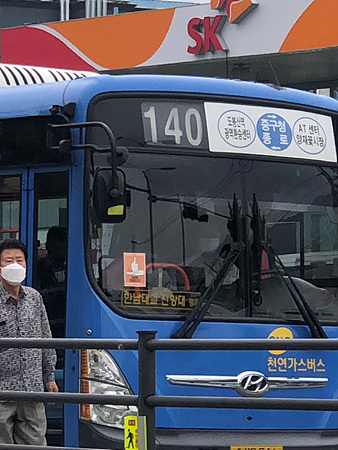bnum: (141, 104, 204, 147)
